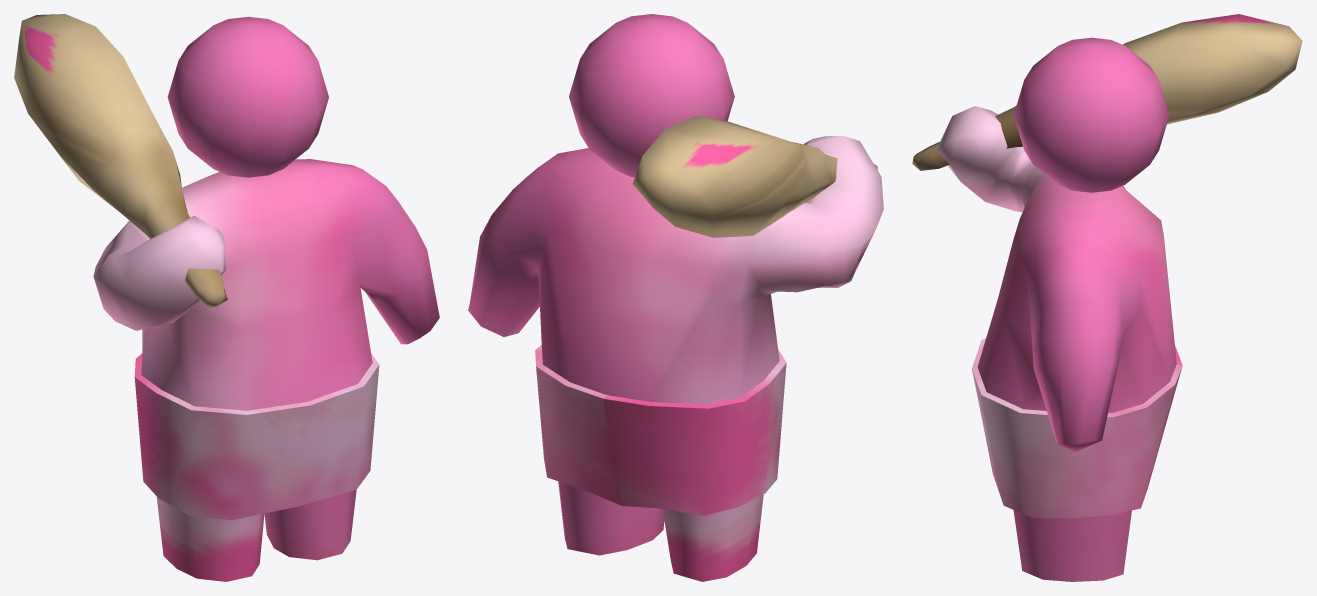
File: Bhuman.fbx
3 views of the same model, side by side, from view 1: azimuth 30°, elevation 25°; view 2: azimuth 150°, elevation 25°; view 3: azimuth 270°, elevation 25° (orthographic). The views are drawn at different scales.
Parts seen in each view (by area): view 1: Bhum; view 2: Bhum; view 3: Bhum.
Part boxes in pixels (box(x1,y1,x2,y2)): Bhum: box(14, 14, 439, 581); Bhum: box(468, 14, 883, 581); Bhum: box(912, 14, 1302, 581).
Bounding box in the file's own units: 113 × 153 × 109.
